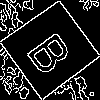B: (25, 24, 81, 78)
